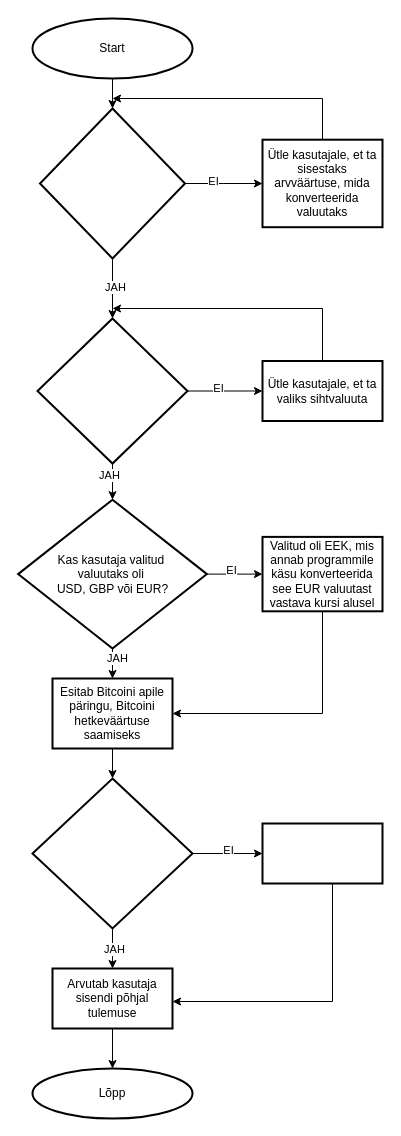
This 401x1136 diagram has some shape labels left out. The box of each missing label's shape, as (x1, y1, x2, y2) in pixels:
Kas kasutaja on sisestanud konverteeritava summa?: (38, 107, 186, 259)
Kas kasutaja on valinud valuuta, millesse Bitcoin konverteeritakse?: (36, 317, 188, 464)
Kas programmil on võimalik valuutat API kaudu otse konverteerida Bitcoiniks?: (31, 777, 193, 929)
Konverteeritakse EUR valuuta EEK valuutaks: (261, 822, 383, 884)
